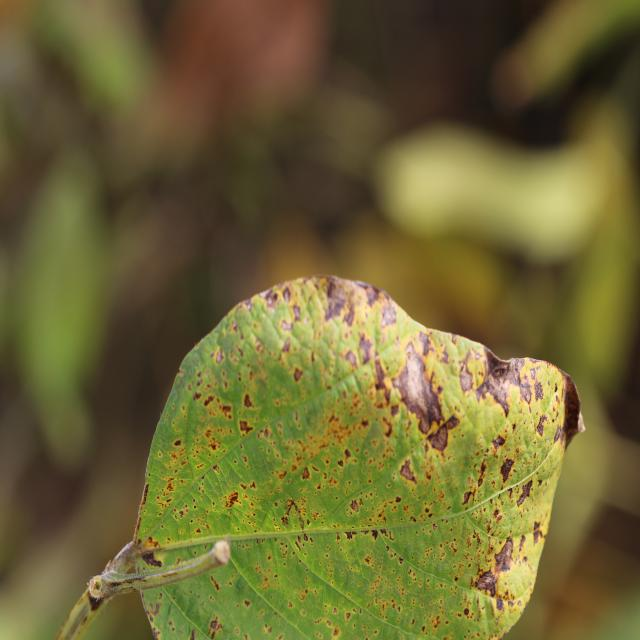Bacterial_Blight: (385, 339, 454, 453), (472, 347, 515, 417), (365, 533, 414, 581), (557, 367, 586, 448), (325, 279, 350, 319), (280, 498, 307, 530), (493, 538, 515, 574), (374, 357, 392, 393), (379, 300, 398, 329), (87, 584, 106, 612), (357, 335, 374, 365), (516, 480, 532, 508), (140, 548, 162, 568), (499, 456, 515, 483), (221, 489, 242, 509), (375, 527, 396, 543), (265, 287, 280, 308), (418, 331, 432, 353), (535, 414, 548, 437), (207, 618, 221, 639), (532, 522, 544, 546), (344, 349, 358, 369), (239, 419, 254, 436), (146, 600, 161, 617), (140, 481, 149, 505), (534, 381, 544, 402), (291, 304, 302, 322), (243, 393, 255, 409), (144, 537, 160, 549), (553, 425, 562, 445), (281, 336, 291, 353), (293, 366, 303, 382), (210, 575, 220, 591), (221, 404, 232, 417), (349, 499, 359, 513), (431, 615, 441, 629), (215, 349, 224, 364), (472, 530, 481, 545), (204, 395, 215, 407), (495, 598, 505, 611), (301, 466, 310, 480), (263, 623, 273, 635), (300, 588, 308, 601), (178, 508, 187, 519), (173, 438, 183, 447), (345, 531, 355, 540), (193, 391, 202, 401), (249, 480, 257, 490), (189, 629, 196, 640), (371, 530, 378, 540), (333, 626, 340, 636), (337, 459, 344, 468), (213, 464, 220, 473), (244, 599, 251, 608), (463, 607, 469, 616), (345, 612, 351, 621), (554, 381, 558, 394), (395, 496, 401, 503), (432, 523, 437, 531), (195, 528, 201, 534), (274, 501, 278, 508)
Soybean: (57, 277, 584, 640)
